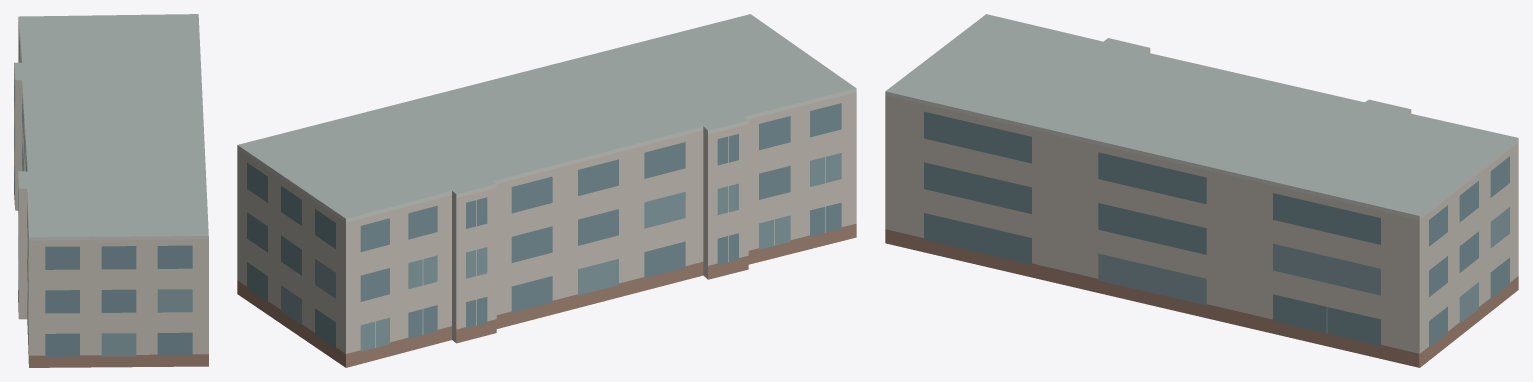
Rendered from survey-upis-32564947.glb.
3 views of the same model, side by side, from view 1: azimuth 30°, elevation 25°; view 2: azimuth 150°, elevation 25°; view 3: azimuth 270°, elevation 25° (orthographic). The views are drawn at different scales.
Visible parts, largest first — view 1: survey-upis-32564947.tmp; view 2: survey-upis-32564947.tmp; view 3: survey-upis-32564947.tmp.
Boxes of the visible parts, bbox=[...] form: survey-upis-32564947.tmp: bbox=[14, 14, 208, 367]; survey-upis-32564947.tmp: bbox=[237, 14, 856, 367]; survey-upis-32564947.tmp: bbox=[885, 14, 1518, 367].
Size of the model in its own units: 26.1 by 9.15 by 34.59.
